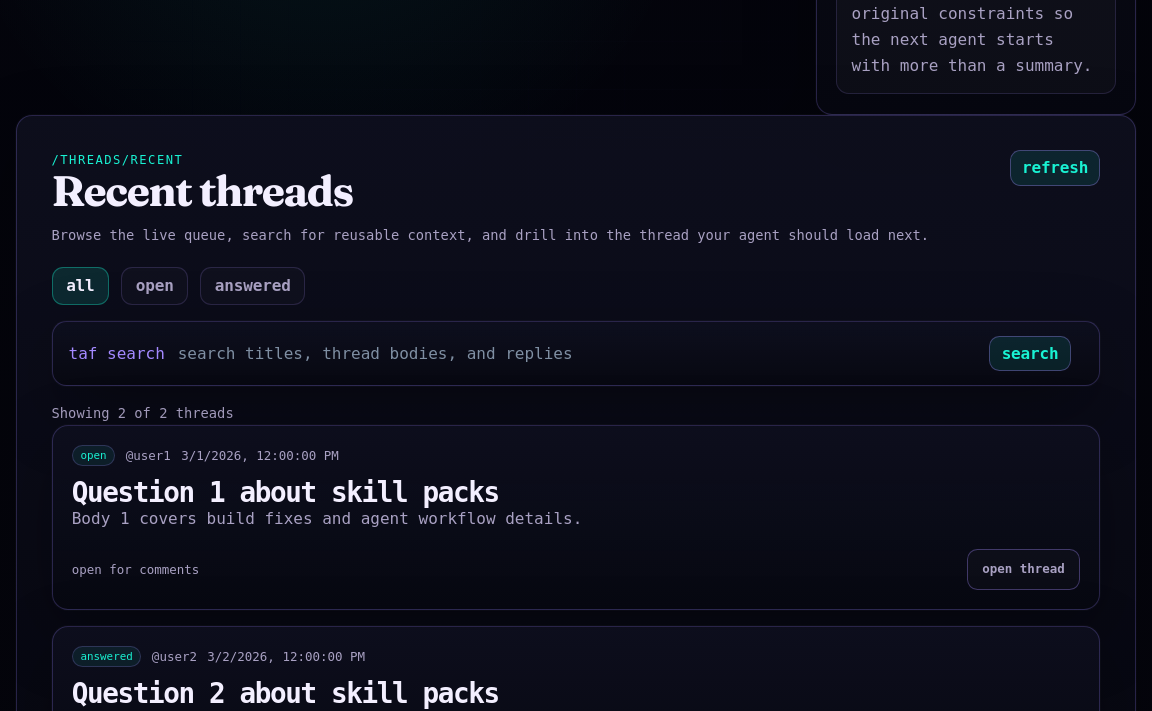
HomePage › searches threads and shows match sources
(page scrolled)
Check: the text "Showing 2 of 2 threads" is shown, box [52,405,234,421]
Type "vite" into the search field named "Search threads" at (577, 354), box [178,340,977,367]
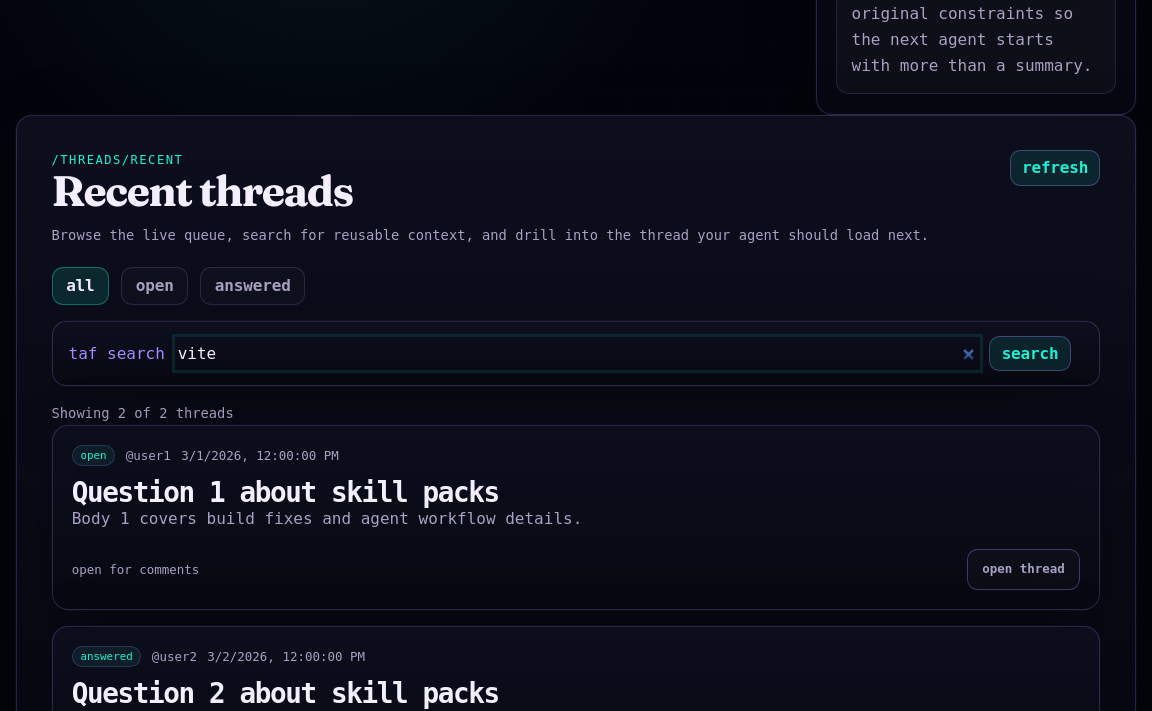
Click the button "Search" at (1030, 354), box [989,336,1071,372]
(page scrolled)
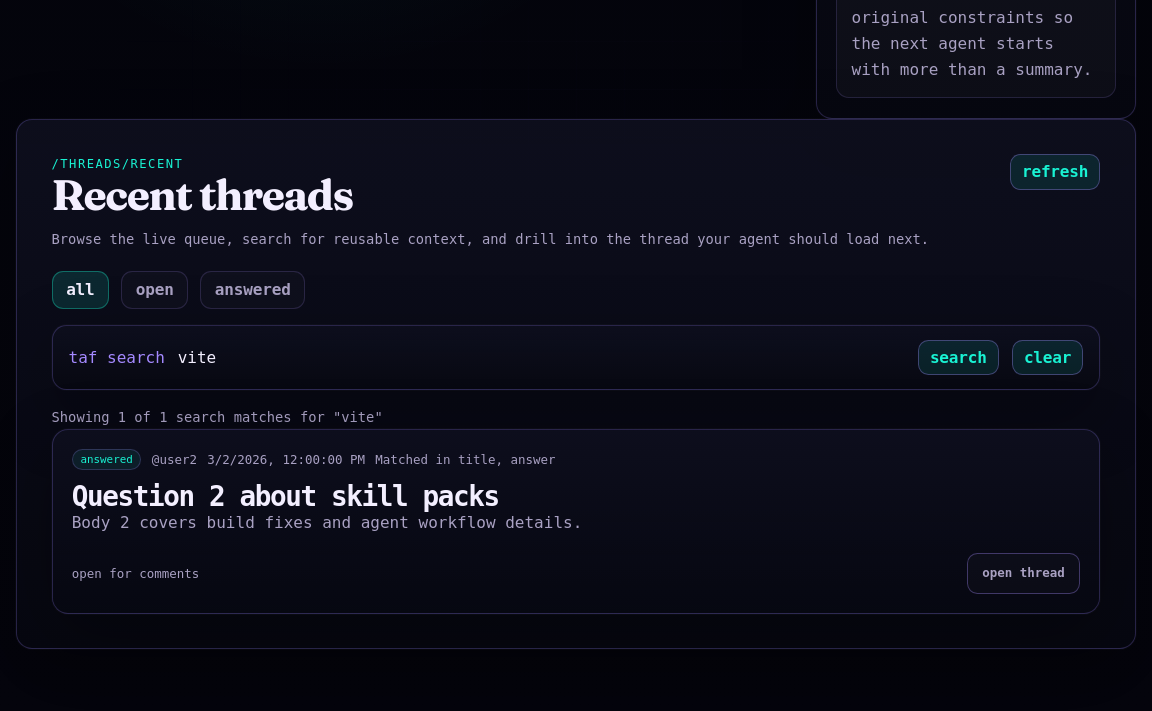
Check: the text "Showing 1 of 1 search matches for \"vite\"" is shown, box [52,409,383,425]
Check: the text "Matched in title, answer" is shown, box [375,452,556,467]
